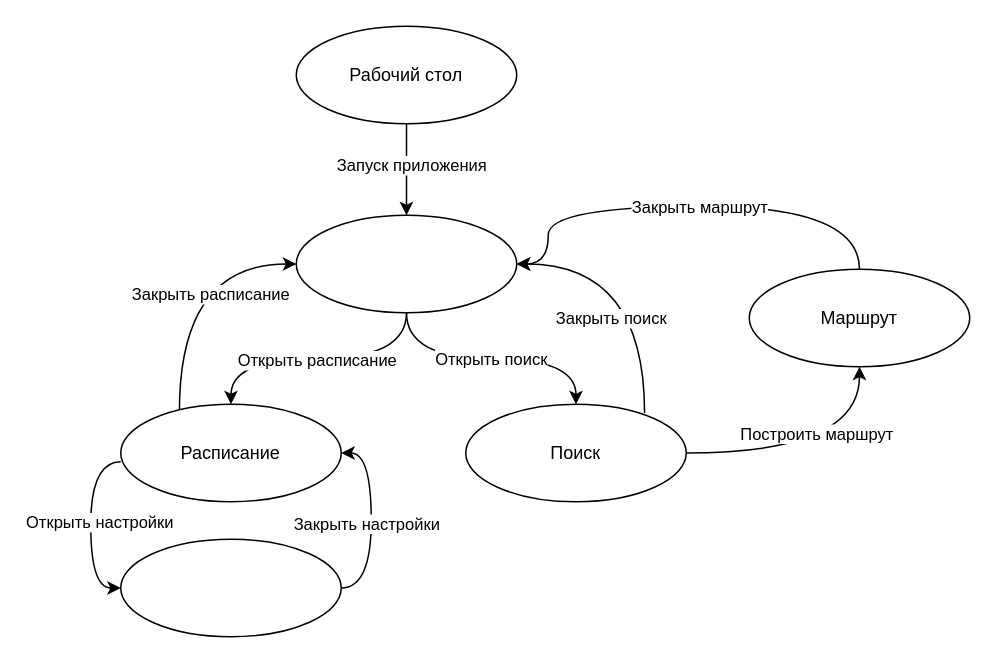
Image size: 996x663. Some labels were removed from this diagram. The shapes that lost their labels are listed below. From the top down, each one's centre as x and y in pixels, then its label:
At (406,263): "Основной экран".
At (230,587): "Настройки".
